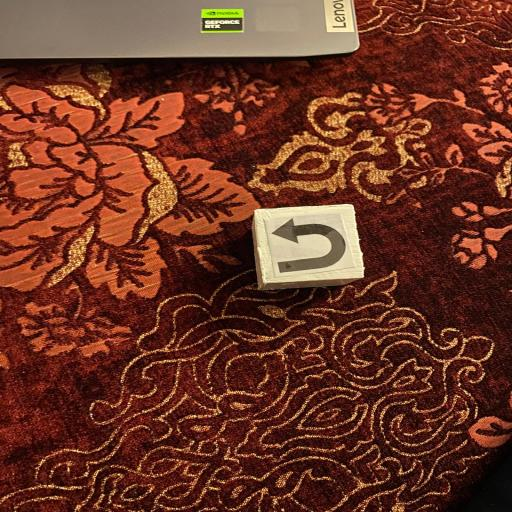Undo: (252, 204, 365, 291)
